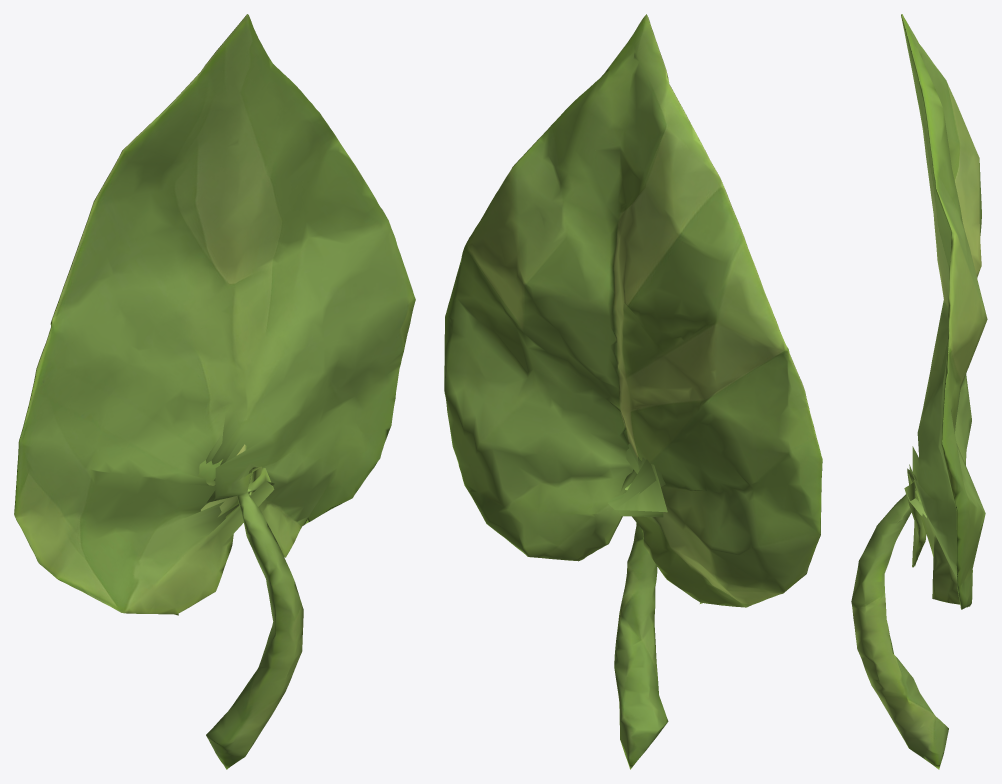
File: sc_leaf_young.glb
The picture shows the model from 3 angles, left to right: view 1: azimuth 30°, elevation 25°; view 2: azimuth 150°, elevation 25°; view 3: azimuth 270°, elevation 25°; orthographic projection. The views are drawn at different scales.
Visible parts, largest first — view 1: tripo_node_2b98ade2-e4f8-4191-a31c-b98ae46dc33f; view 2: tripo_node_2b98ade2-e4f8-4191-a31c-b98ae46dc33f; view 3: tripo_node_2b98ade2-e4f8-4191-a31c-b98ae46dc33f.
Boxes of the visible parts, <box> form: tripo_node_2b98ade2-e4f8-4191-a31c-b98ae46dc33f: <box>14,14,415,769</box>; tripo_node_2b98ade2-e4f8-4191-a31c-b98ae46dc33f: <box>444,14,822,769</box>; tripo_node_2b98ade2-e4f8-4191-a31c-b98ae46dc33f: <box>851,14,987,769</box>.
Size of the model in its own units: 0.6478 by 1.2 by 0.1964.
Materials: 1 (1 with a texture image).
